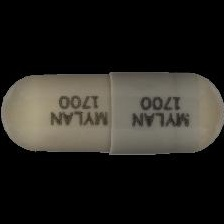35356-681: (0, 0, 224, 224)
